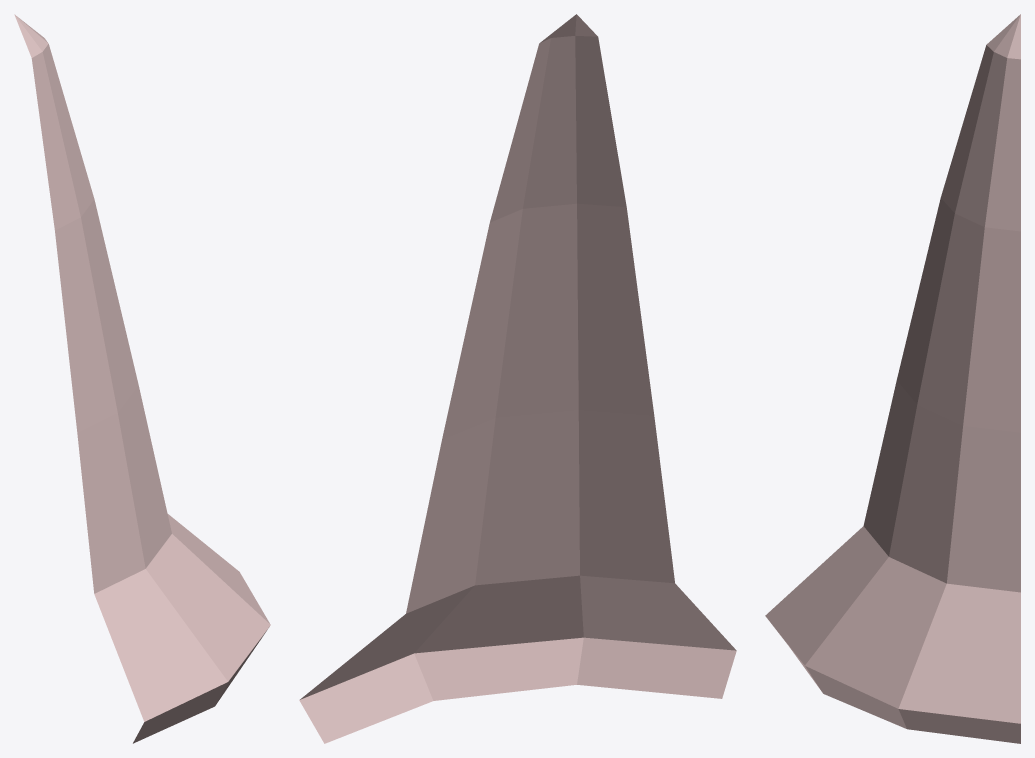
File: castle_roof_corner.fbx
3 views of the same model, side by side, from view 1: azimuth 30°, elevation 25°; view 2: azimuth 150°, elevation 25°; view 3: azimuth 270°, elevation 25° (orthographic). The views are drawn at different scales.
Parts seen in each view (by area): view 1: castle_roof_corner_01; view 2: castle_roof_corner_01; view 3: castle_roof_corner_01.
Boxes of the visible parts, x1,y1,x2,y2 form: castle_roof_corner_01: (14, 14, 270, 743); castle_roof_corner_01: (299, 14, 736, 743); castle_roof_corner_01: (765, 14, 1020, 743).
Bounding box in the file's own units: 8.8 × 24 × 8.8.
